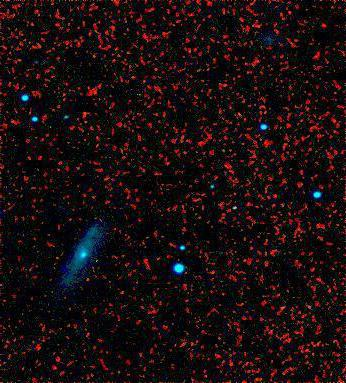star: (48, 255, 78, 285)
